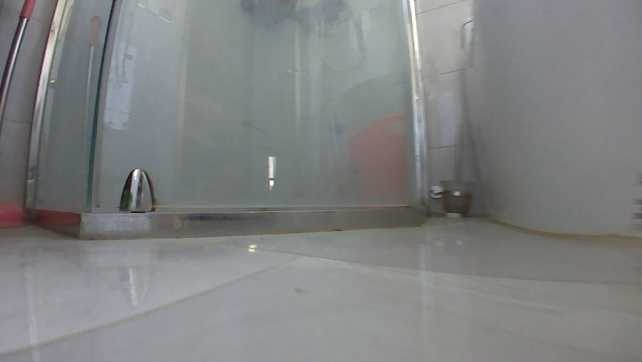toilet: (458, 0, 640, 239)
